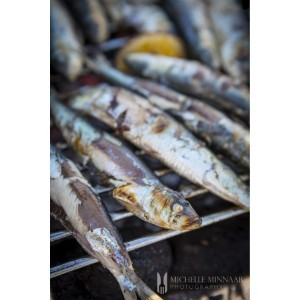sardine_brain food: (67, 26, 230, 258)
